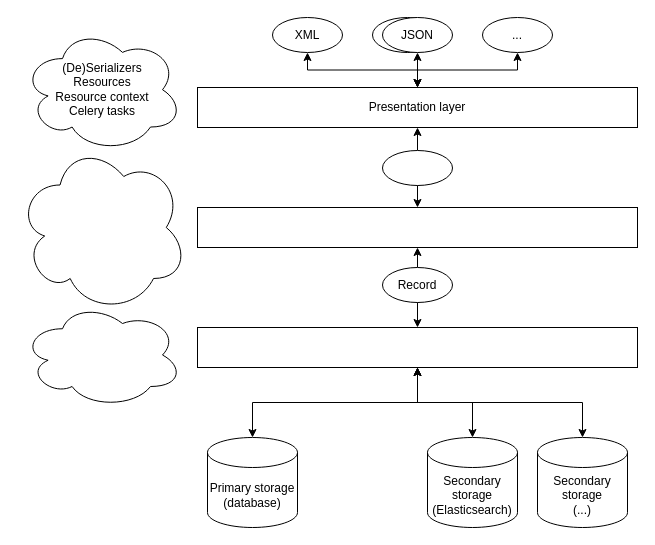
The diagram is 655 pixels wide and 545 high, and some of its shapes have lost their labels. Here are the shapes that lost their labels. From the top down, the centre of each, then its label:
At (417,168): "Result".
At (102,227): "Config Components Schema Permission policy Link templates Search".
At (417,227): "Service layer".
At (102,355): "System fields Dumpers JSONSchema Index mappings".
At (417,347): "Data access layer".
